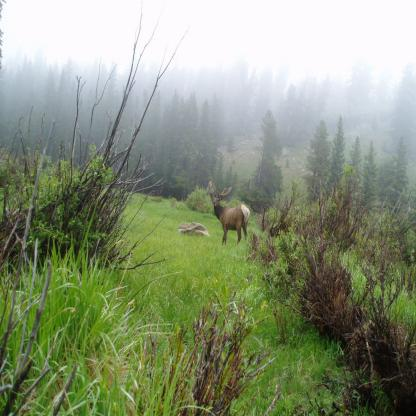Deer: (208, 180, 251, 252)
